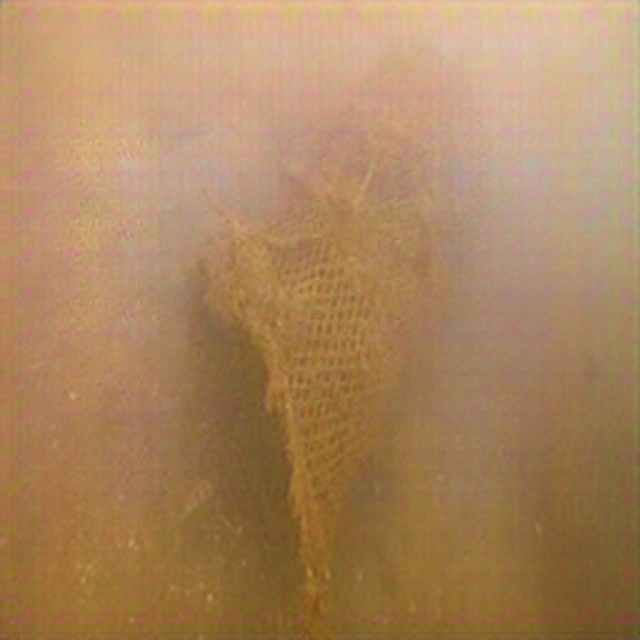mine: (181, 38, 495, 620)
